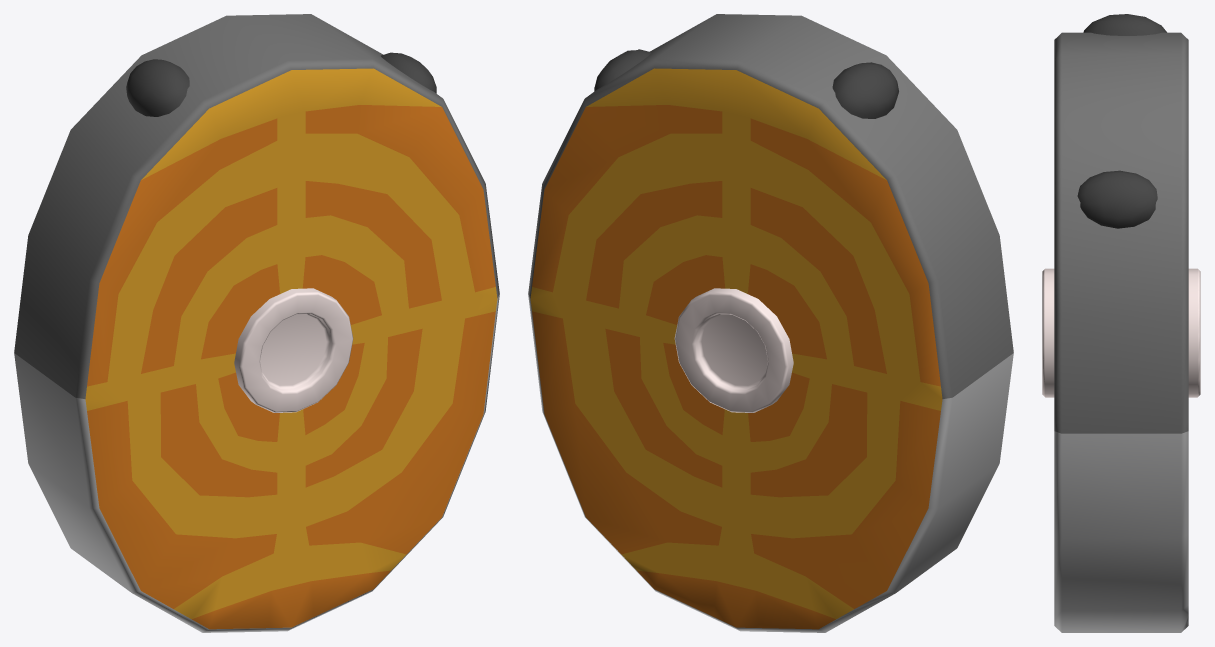
The model's file is Salmon_1_Slice.fbx.
3 renders of one model, left to right at view 1: azimuth 30°, elevation 25°; view 2: azimuth 150°, elevation 25°; view 3: azimuth 270°, elevation 25°, orthographic. The views are drawn at different scales.
Parts seen in each view (by area): view 1: Salmon_1_Slice; view 2: Salmon_1_Slice; view 3: Salmon_1_Slice.
Part boxes in pixels (left/top/right/bottom): Salmon_1_Slice: left=14, top=14, right=499, bottom=632; Salmon_1_Slice: left=528, top=14, right=1013, bottom=632; Salmon_1_Slice: left=1042, top=14, right=1200, bottom=632.
Size of the model in its own units: 20.5 by 26.33 by 6.79.
